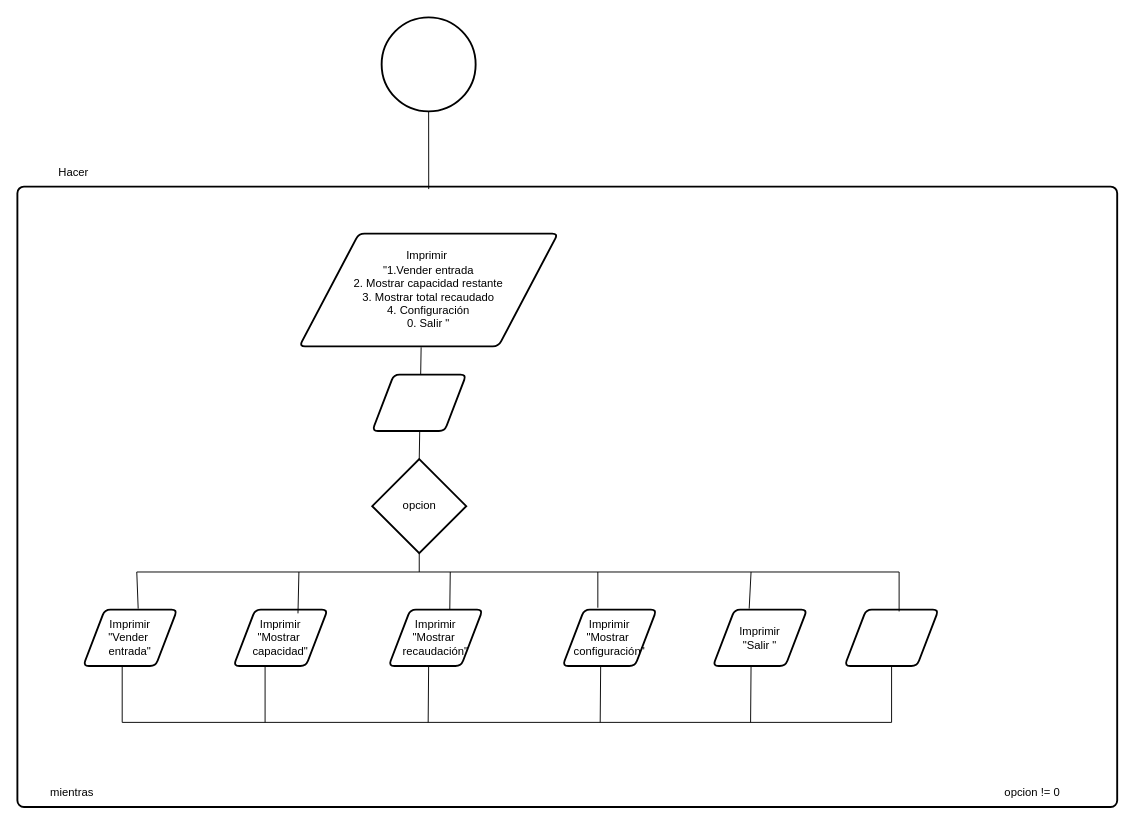
Some shapes in this 1134 by 823 pixel diagram are drawn without their labels. Each missing label, with the box of its shape:
Imprimir "Opción inválida": (843, 608, 939, 666)
Inicio: (380, 16, 476, 112)
Leer opcion: (371, 373, 467, 431)
